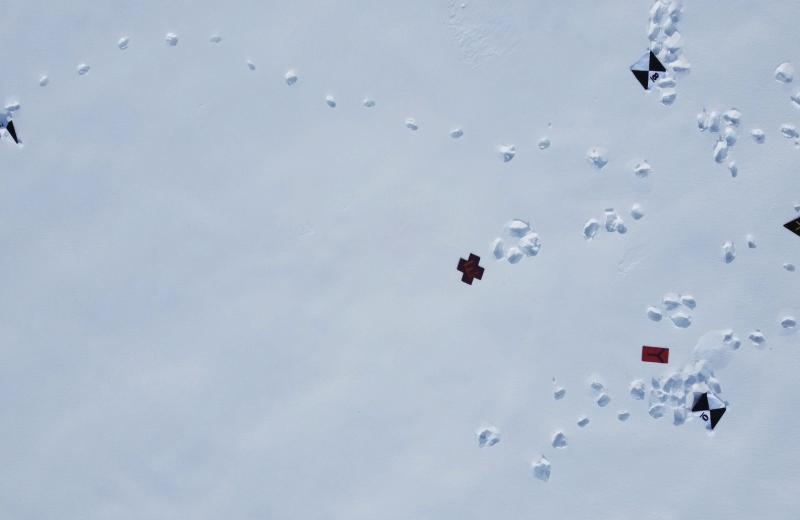Cross: (455, 254, 484, 286)
Rectangle: (642, 344, 670, 367)
Triangle: (780, 212, 800, 235)
